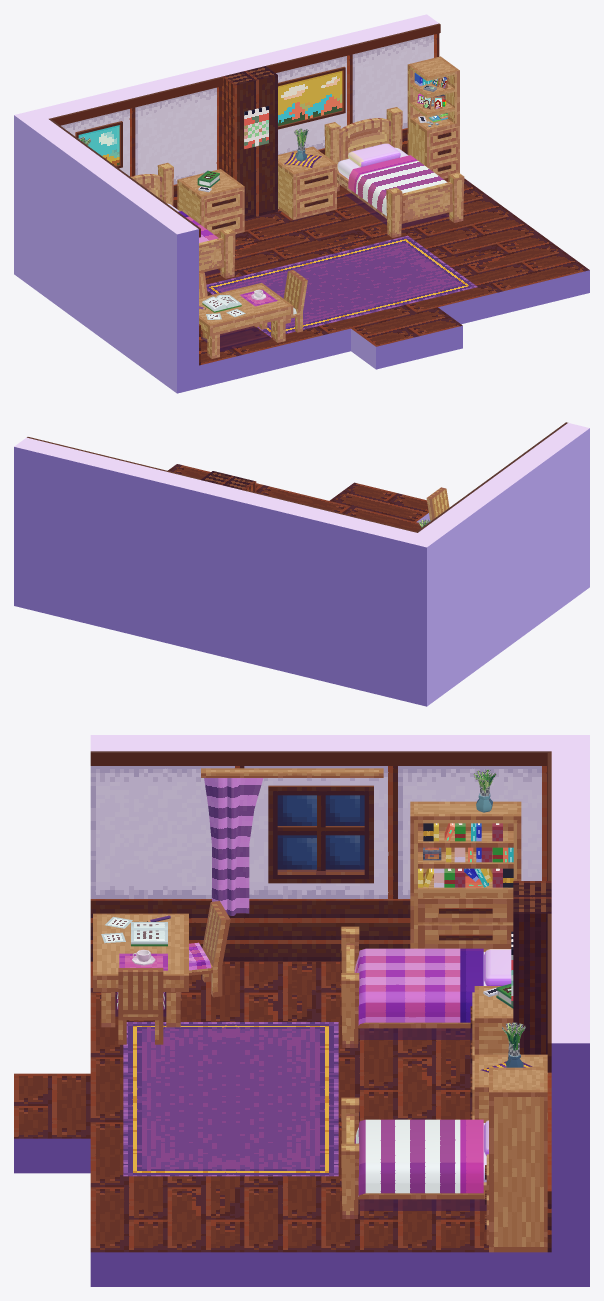
The model's file is sister-bedroom.glb.
3 views of the same model, one above another, from view 1: azimuth 30°, elevation 25°; view 2: azimuth 150°, elevation 25°; view 3: azimuth 270°, elevation 25° (orthographic). The views are drawn at different scales.
Visible parts, largest first — view 1: wall, floor, carpet, pillar, shelf_B, dresser_B, painting_B, dresser_A, table, blanket, bottom (×2), head (+10 smaller); view 2: wall, floor, pillar, chair_01; view 3: wall, floor, carpet, blanket (×2), shelf_A, shelf_B, window, pillar, curtain, table, chair_01, corner_00 (×2) (+9 smaller).
Boxes of the visible parts, bbox=[...] form: wall: bbox=[14, 14, 440, 393]; floor: bbox=[199, 178, 589, 388]; carpet: bbox=[206, 235, 477, 337]; pillar: bbox=[222, 66, 277, 219]; shelf_B: bbox=[407, 56, 459, 178]; dresser_B: bbox=[278, 146, 336, 219]; painting_B: bbox=[278, 66, 345, 129]; dresser_A: bbox=[177, 169, 244, 237]; table: bbox=[199, 283, 293, 358]; blanket: bbox=[348, 155, 447, 215]; bottom (×2): bbox=[199, 182, 452, 271]; head: bbox=[340, 118, 391, 160]; wall: bbox=[14, 422, 589, 706]; floor: bbox=[168, 464, 429, 531]; pillar: bbox=[201, 471, 256, 492]; chair_01: bbox=[426, 487, 449, 520]; wall: bbox=[90, 735, 589, 1286]; floor: bbox=[14, 961, 551, 1286]; carpet: bbox=[123, 1022, 338, 1176]; blanket (×2): bbox=[354, 948, 483, 1196]; shelf_A: bbox=[410, 801, 521, 951]; shelf_B: bbox=[485, 1067, 547, 1252]; window: bbox=[268, 785, 373, 883]; pillar: bbox=[513, 881, 551, 1054]; curtain: bbox=[204, 778, 263, 915]; table: bbox=[93, 913, 188, 1027]; chair_01: bbox=[117, 968, 164, 1044]; corner_00 (×2): bbox=[341, 973, 359, 1218].
Bounding box in the file's own units: 9.5 × 3.5 × 7.5.
110 materials, 107 textured.
